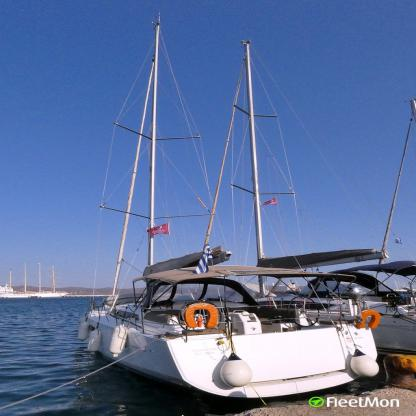Sails Boat: (77, 9, 379, 399), (203, 39, 416, 356)
